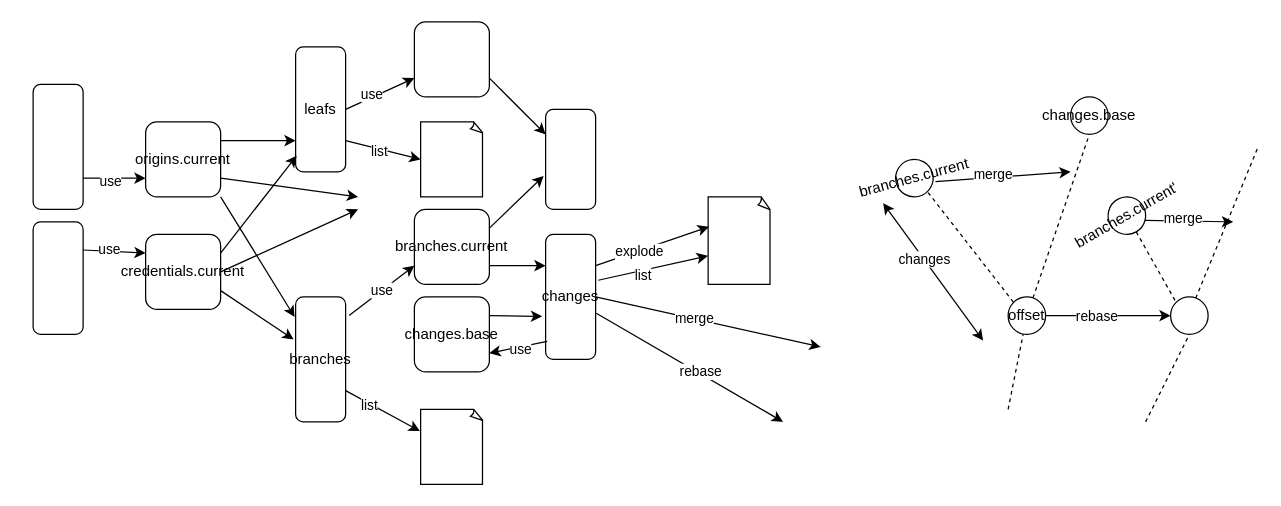
The diagram is 1281 pixels wide and 506 high, and some of its shapes have lost their labels. The box of each missing label's shape, as (x1, y1, x2, y2) in pixels:
credentials: (32, 83, 83, 209)
leafs.current: (413, 21, 489, 97)
origins: (32, 221, 83, 334)
properties: (544, 108, 596, 209)
r2: (1169, 296, 1208, 334)
